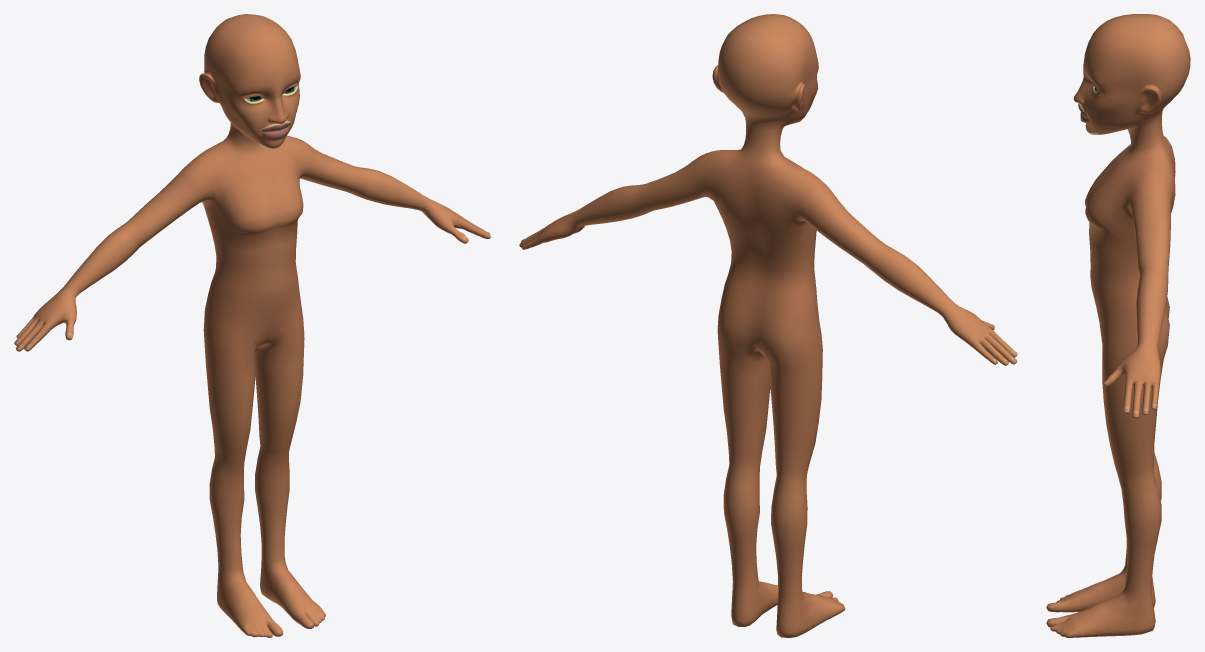
File: frame_0017.glb
The picture shows the model from 3 angles, left to right: view 1: azimuth 30°, elevation 25°; view 2: azimuth 150°, elevation 25°; view 3: azimuth 270°, elevation 25°; orthographic projection. The views are drawn at different scales.
Visible parts, largest first — view 1: frame_0017_head_geo; view 2: frame_0017_head_geo; view 3: frame_0017_head_geo.
Boxes of the visible parts, x1,y1,x2,y2 form: frame_0017_head_geo: (14,14,490,637); frame_0017_head_geo: (519,14,1017,637); frame_0017_head_geo: (1046,14,1190,637).
Bounding box in the file's own units: 1.28 × 1.5 × 0.3253.
3 materials, 3 textured.
